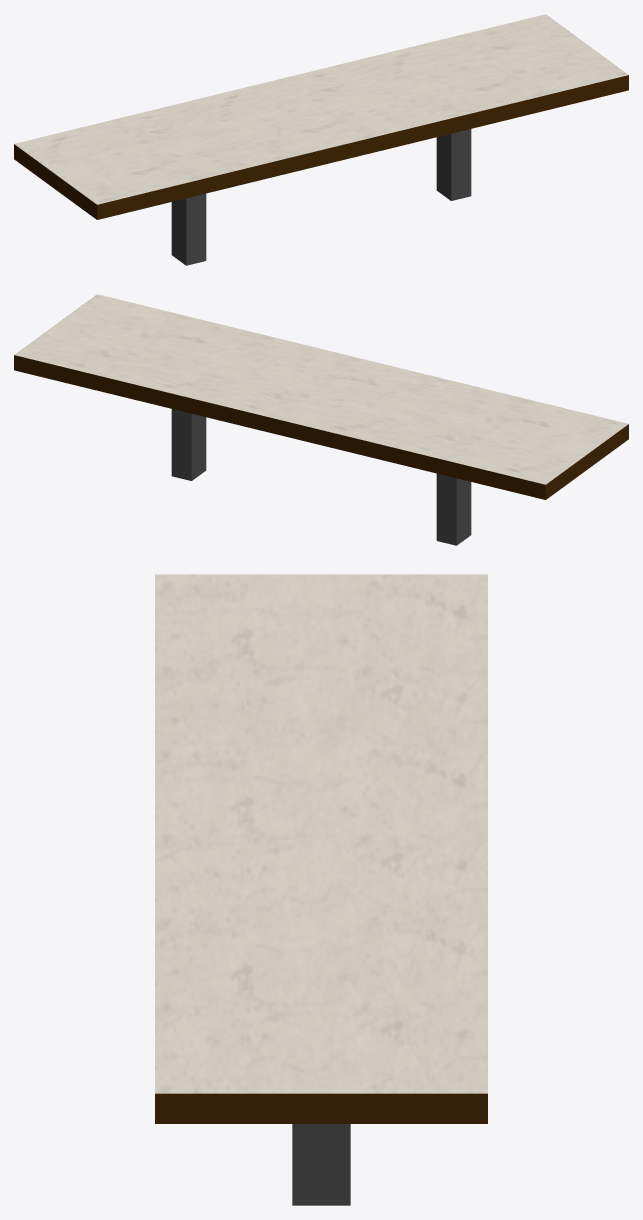
Rendered from cafet_table.fbx.
3 views of the same model, one above another, from view 1: azimuth 30°, elevation 25°; view 2: azimuth 150°, elevation 25°; view 3: azimuth 270°, elevation 25° (orthographic). The views are drawn at different scales.
Visible parts, largest first — view 1: tableCafet; view 2: tableCafet; view 3: tableCafet.
Boxes of the visible parts, x1,y1,x2,y2 form: tableCafet: (14, 14, 628, 265); tableCafet: (14, 294, 628, 545); tableCafet: (155, 574, 487, 1205).
Bounding box in the file's own units: 473 × 98.83 × 128.
